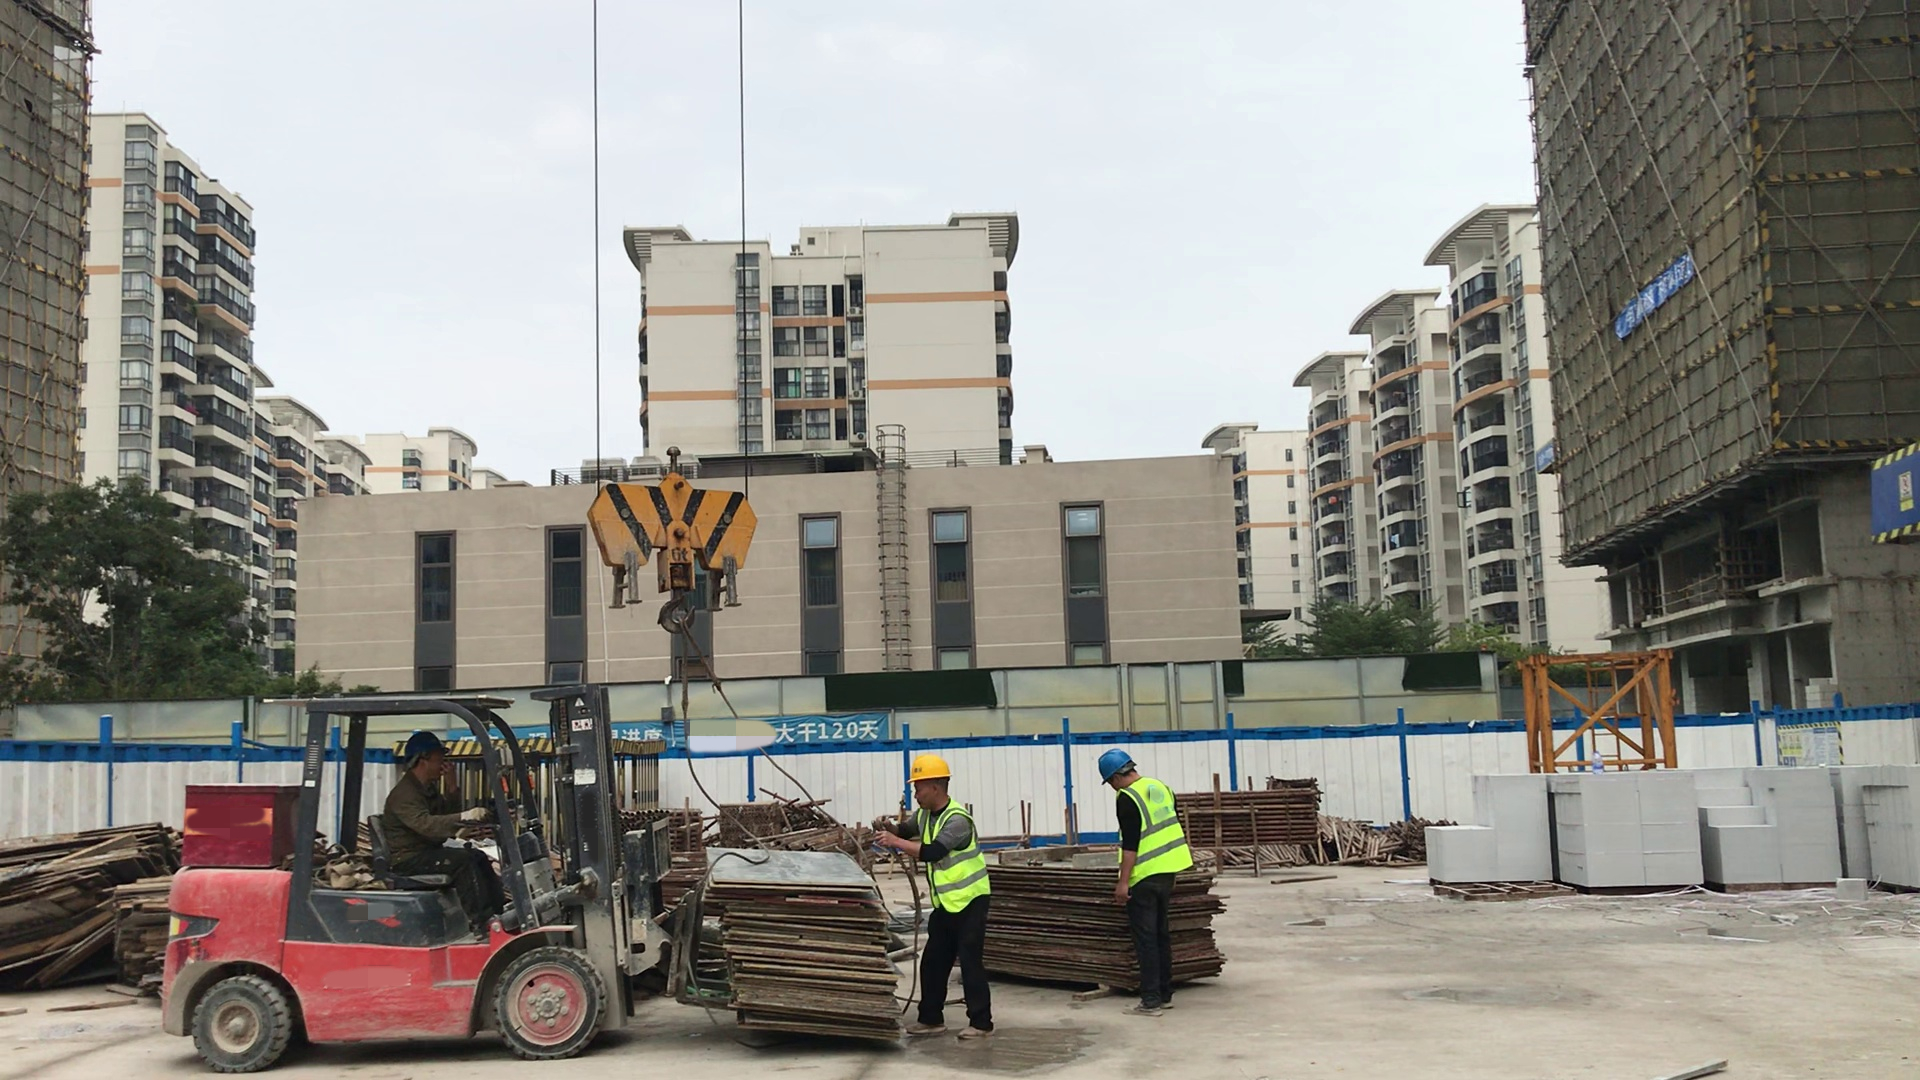board: (680, 827, 933, 1055), (937, 832, 1242, 1015), (4, 796, 196, 1012)
brick: (1392, 753, 1920, 922)
helmet: (900, 749, 963, 788), (396, 727, 457, 765), (1089, 746, 1142, 785)
hook: (569, 430, 781, 651)
person: (873, 733, 1021, 1064), (1086, 729, 1217, 1023), (366, 720, 532, 942)
scaffold: (1174, 782, 1331, 855), (613, 802, 720, 856)
slogan: (449, 711, 895, 769), (1598, 237, 1704, 353), (1846, 423, 1920, 565), (1503, 430, 1569, 481)
vest: (905, 800, 991, 923), (1113, 777, 1198, 891)
